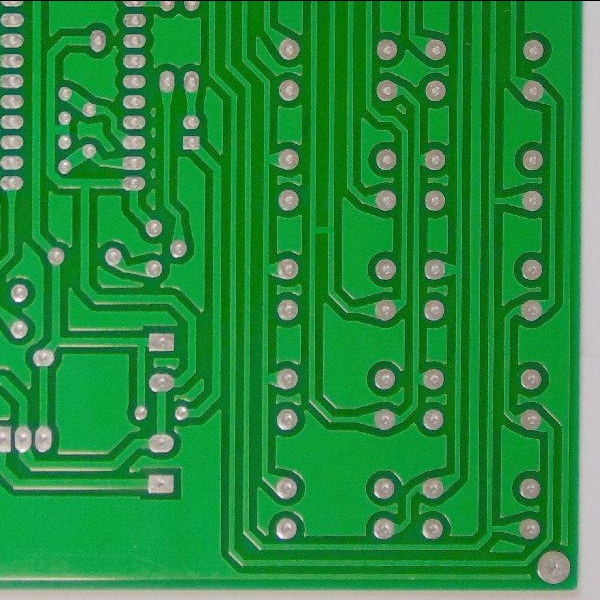short: (306, 222, 336, 240)
